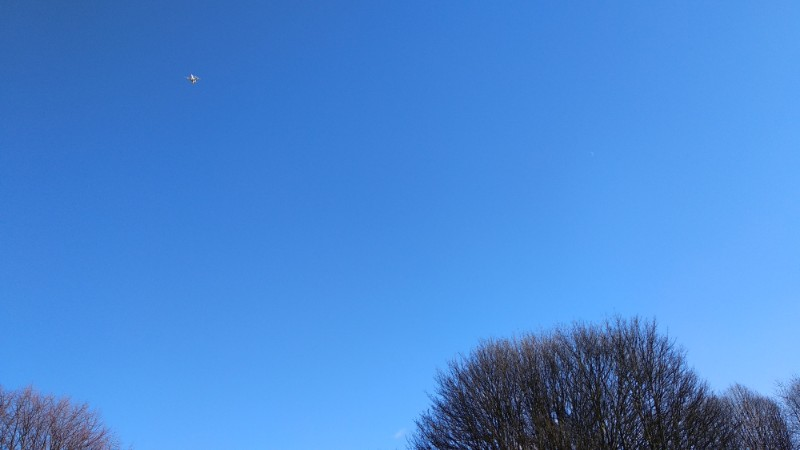drone: (186, 72, 199, 84)
